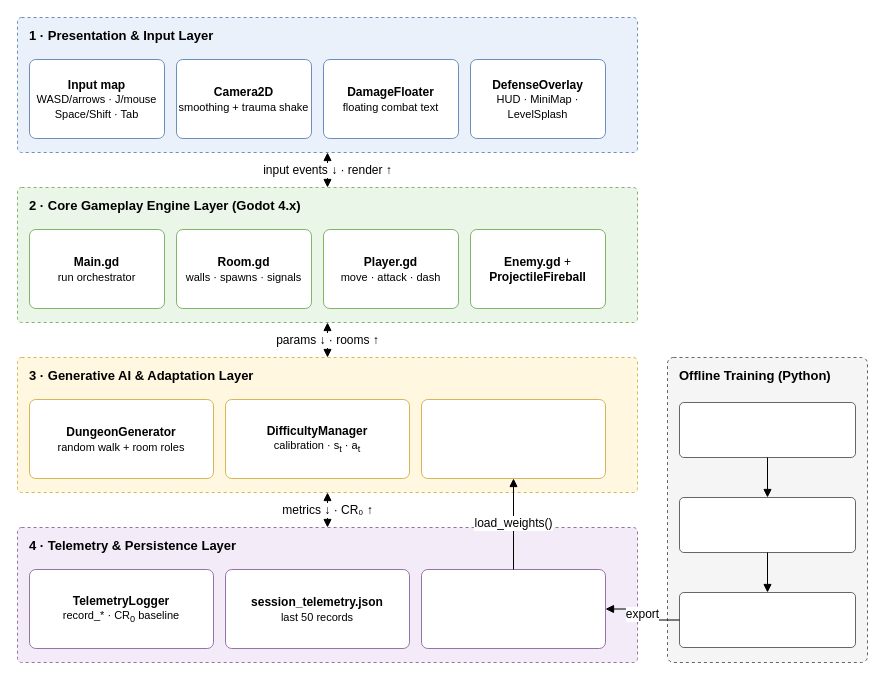
Image size: 885x680. Some labels were removed from this diagram. Each missing label, with the centre of its shape:
"DungeonDifficultyEnv Gymnasium simulator" goes at point (767, 430).
"export policy_weights.json" goes at point (767, 620).
"policy_weights.json read-only, ≈111 KB" goes at point (513, 608).
"PPOPolicy MLP 8→64→64→7 + heuristic fallback" goes at point (513, 438).
"Stable-Baselines3 PPO 300k steps" goes at point (767, 524).
